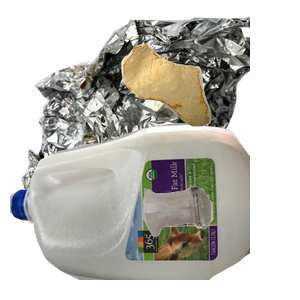glass: (141, 184, 300, 300)
metal: (19, 14, 259, 194)
plastic: (10, 120, 250, 300)
trash: (119, 42, 300, 161)
